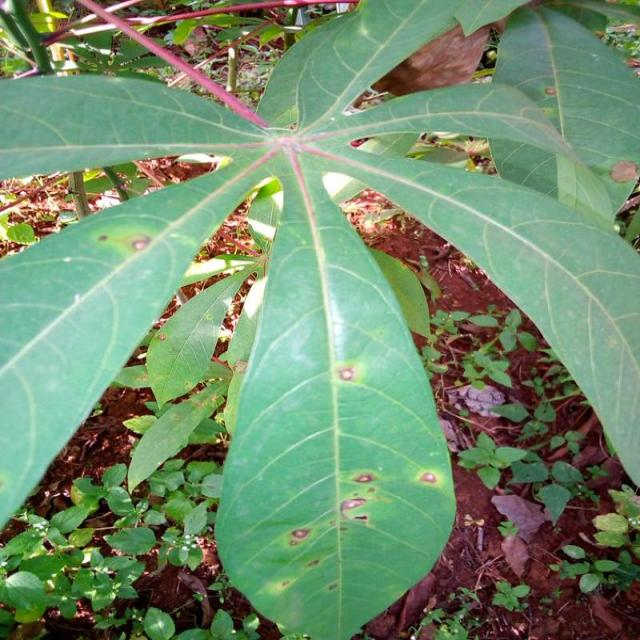cassava leaf: (0, 1, 638, 635), (212, 142, 458, 638)
